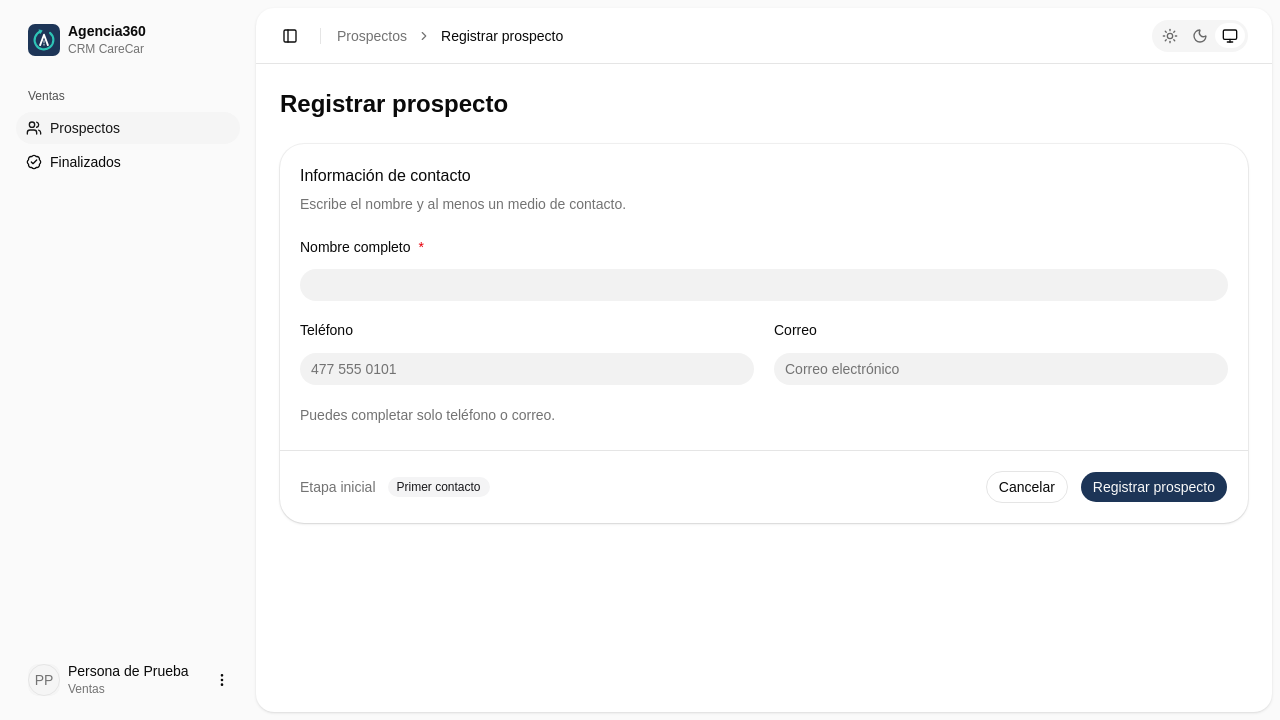
Test case: Registro de prospecto › avisa mientras captura que el teléfono ya existe, sin decir de quién
The image size is (1280, 720).
Type "5500000000" into the field labelled "Teléfono" at (527, 368), box [300, 352, 754, 384]
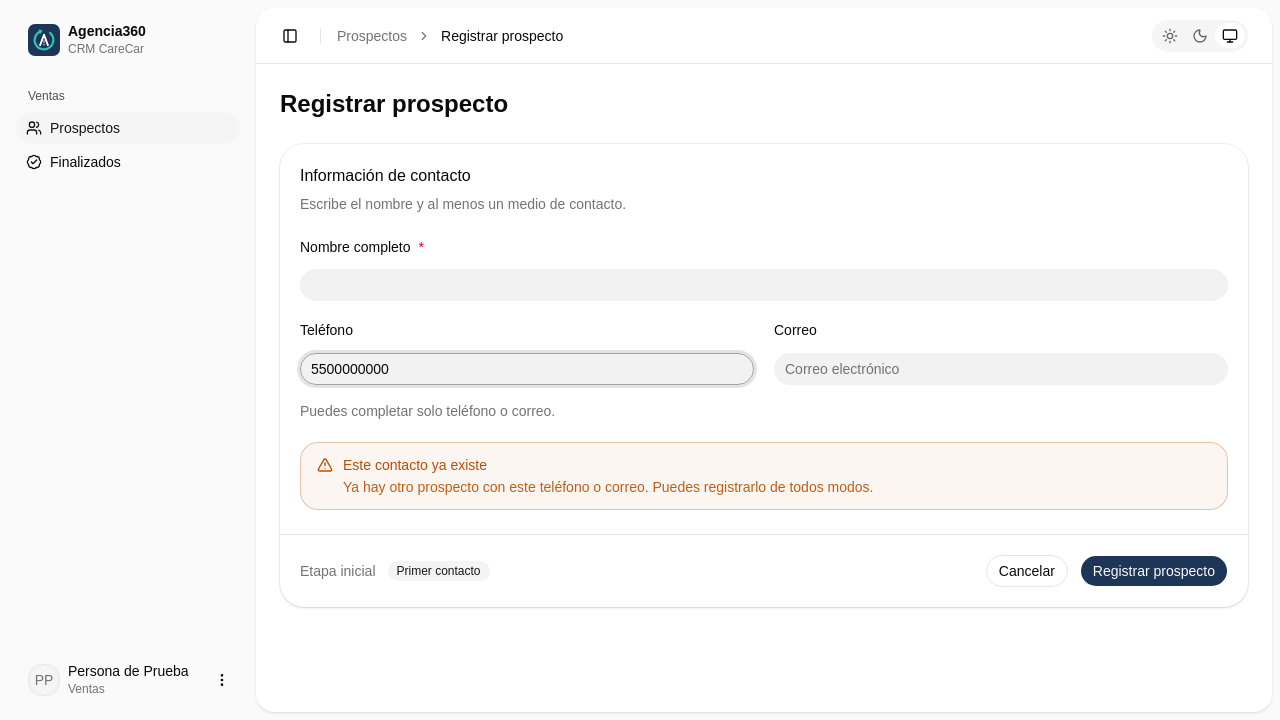
Expected: the text "Este contacto ya existe" does not show "Rosa", [300, 442, 1228, 510]
Expected: the text "Este contacto ya existe" shows "Ya hay otro prospecto con este teléfono o correo. Puedes registrarlo de todos modos.", [343, 478, 874, 494]
